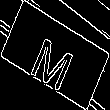M_NE: (29, 22, 81, 88)
